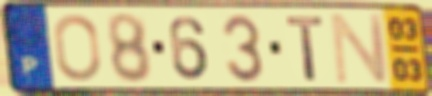3: (219, 12, 267, 85)
6: (167, 14, 212, 82)
8: (105, 11, 154, 85)
N: (328, 11, 392, 86)
O: (51, 12, 103, 84)
T: (284, 14, 327, 83)
